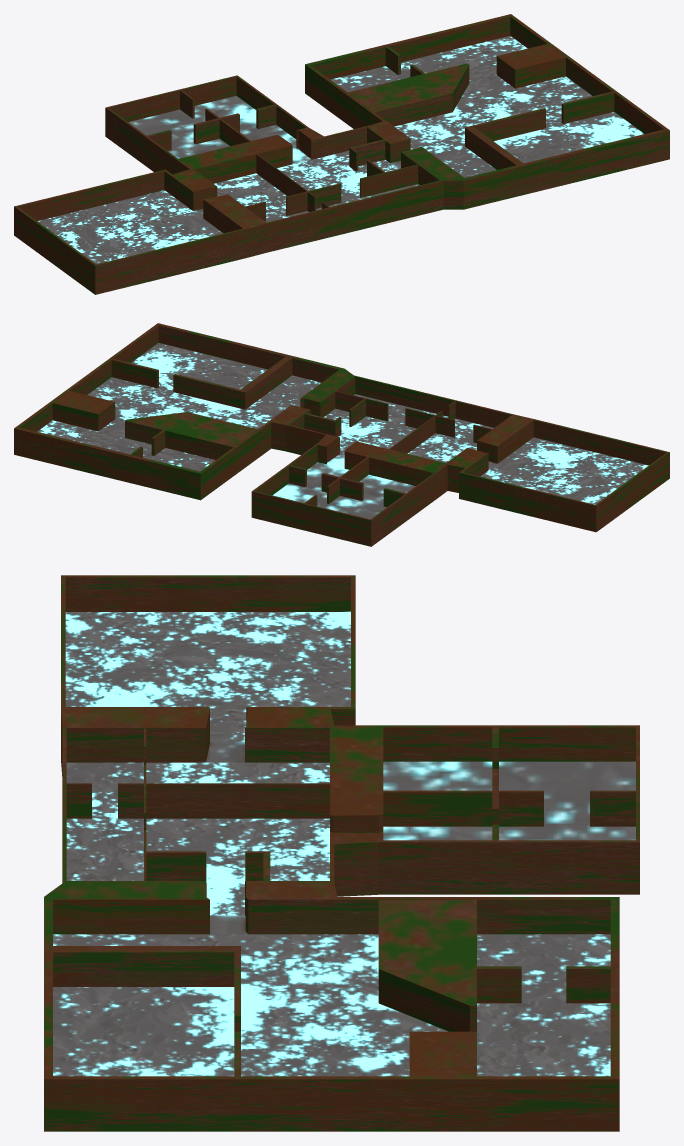
The model's file is Stage 1.fbx.
3 views of the same model, one above another, from view 1: azimuth 30°, elevation 25°; view 2: azimuth 150°, elevation 25°; view 3: azimuth 270°, elevation 25° (orthographic). The views are drawn at different scales.
Visible parts, largest first — view 1: Cube.014; view 2: Cube.014; view 3: Cube.014.
Part boxes in pixels (x1,y1,x2,y2): Cube.014: (14, 14, 669, 294); Cube.014: (14, 323, 669, 546); Cube.014: (44, 575, 639, 1131).
Bounding box in the file's own units: 25027 × 1218 × 12510.
1 material, 1 textured.
